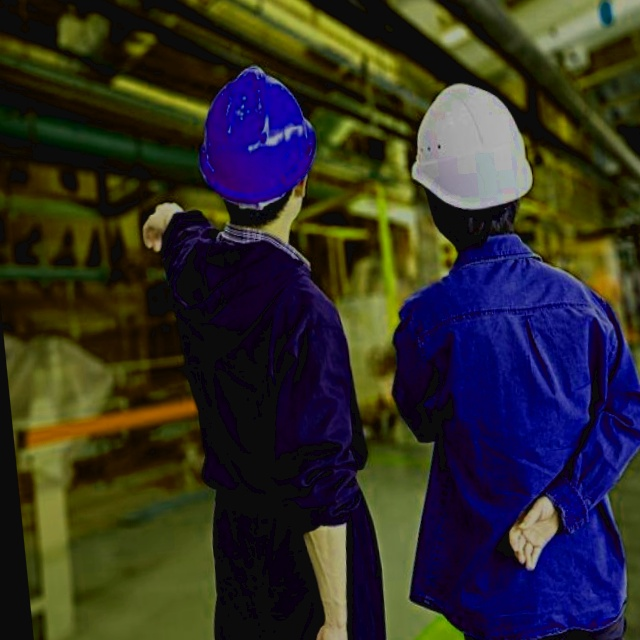Con_Casco: (404, 77, 539, 252), (192, 64, 323, 229)
